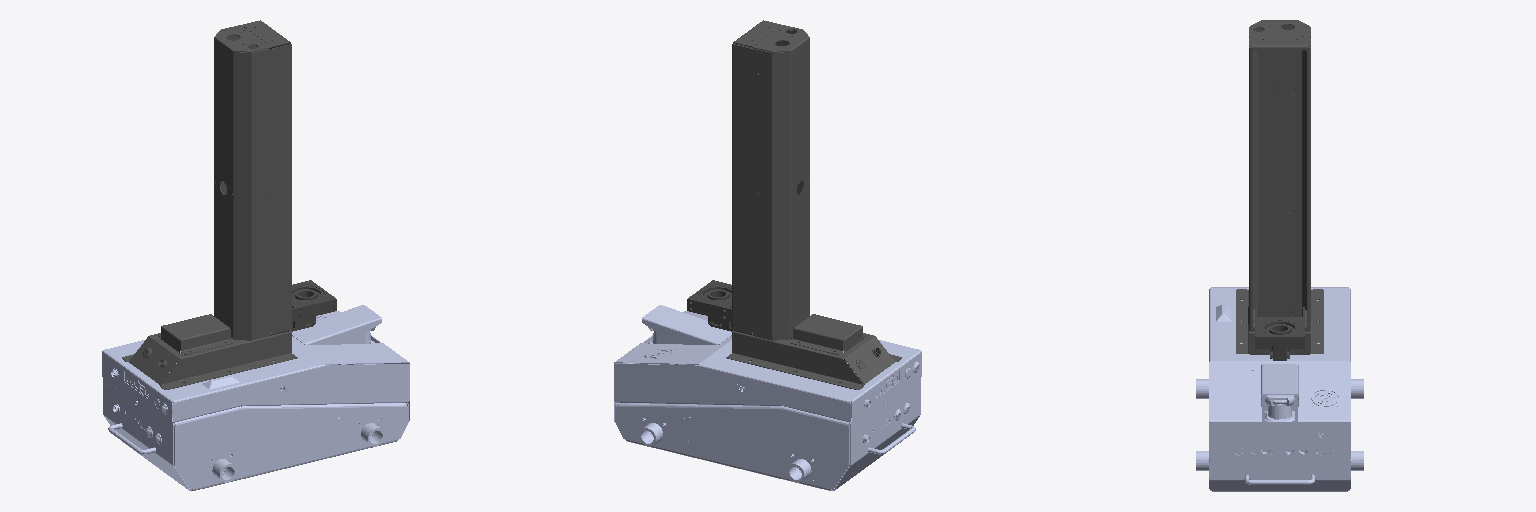
robot.urdf — komodo_torso:
<?xml version="1.0"?>
<robot name="komodo_torso" description="Komodo Torso" xmlns:xacro="http://www.ros.org/wiki/xacro">

      <link name="base_footprint"/>
  
 <joint name="base_footprint_joint" type="fixed">
    <parent link="base_footprint"/>
    <child link="base_link"/>
    <origin xyz="0.00 0.00 0.1275" rpy="0.0 0.0 0.0"/>
  </joint> 

  <link
    name="base_link">
    <inertial>
      <origin
        xyz="0.0030152 0.00057861 0.0749"
        rpy="0 0 0" />
      <mass
        value="6.0" /> <!--20.0058-->
      <inertia
        ixx="0.025582"
        ixy="0.0010034"
        ixz="-0.0041152"
        iyy="0.086418"
        iyz="-3.8058E-05"
        izz="0.091994" />
    </inertial>
    <visual>
      <origin
        xyz="0 0 0"
        rpy="0 0 0" />
      <geometry>
        <mesh
          filename="package://robotican_komodo/description/meshes/base_link.STL" />
      </geometry>
      <material
        name="">
        <color
          rgba="0.79216 0.81961 0.93333 1" />
      </material>
    </visual>
    <collision>
      <origin
        xyz="0 0 0"
        rpy="0 0 0" />
      <geometry>
        <mesh
          filename="package://robotican_komodo/description/meshes/base_link.STL" />
      </geometry>
    </collision>
  </link>


  <link name="arm_base_link">
    <inertial>
      <origin xyz="0.0787832367713514 1.63894955207658E-05 0.30372182598738" rpy="0 0 0" />
      <mass value="5.82785061945851" />
      <inertia
        ixx="0.262040399352781"
        ixy="-1.20613586206922E-05"
        ixz="0.0219696026578"
        iyy="0.271705564666912"
        iyz="3.10612186063073E-05"
        izz="0.0337682852586326" />
    </inertial>
    <visual>
      <origin xyz="0 0 0" rpy="0 0 0" />
      <geometry>
        <mesh filename="package://robotican_komodo/description/meshes/arm_base_link.STL" />
      </geometry>
      <material name="">
        <color rgba="0.4 0.4 0.4 1" />
      </material>
    </visual>
  <collision>
      <origin xyz="0 0 0" rpy="0 0 0" />
      <geometry>
        <mesh filename="package://robotican_komodo/description/meshes/arm_base_link.STL" />
      </geometry>
    </collision> 
  </link>

  <joint name="arm_base_joint" type="fixed">
    <origin xyz="-0.112249972183238 0 0.167160698455407" rpy="0 0 0" />
    <parent link="base_link" />
    <child link="arm_base_link" />
    <axis xyz="0 0 0" />  
  </joint>
  
   <link
    name="torso_link">
    <inertial>
      <origin
        xyz="0.0954671716579415 1.91586249009607E-06 -0.0185743175743276"
        rpy="0 0 0" />
      <mass
        value="1.09057945344451" />
      <inertia
        ixx="0.000835857275985966"
        ixy="5.81870910353681E-08"
        ixz="-3.13493979506258E-05"
        iyy="0.00128840659932805"
        iyz="1.45397132642805E-07"
        izz="0.00136461371089342" />
    </inertial>
    <visual>
      <origin
        xyz="0 0 0"
        rpy="0 0 0" />
      <geometry>
        <mesh
          filename="package://robotican_komodo/description/meshes/torso_link.STL" />
      </geometry>
      <material
        name="">
        <color
          rgba="0.35 0.35 0.35 1" />
      </material>
    </visual>
    <collision>
      <origin
        xyz="0 0 0"
        rpy="0 0 0" />
      <geometry>
        <mesh
          filename="package://robotican_komodo/description/meshes/torso_link.STL" />
      </geometry>
    </collision> 
  </link>
  <joint
    name="torso_joint"
    type="prismatic"> <!--prismatic-->
    <origin
      xyz="0.101457996026178 0 0.0740000000000002"
      rpy="0 0 0" />
    <parent
      link="arm_base_link" />
    <child
      link="torso_link" />
    <axis
      xyz="0 0 1" />
   <limit
	lower="0"
	upper="0.45"
	effort="70"
	velocity="0.012" />
  </joint>

  <joint
    name="base_rotation_joint"
    type="revolute">
    <origin
      xyz="0.113 0 -0.00400000000000003"
      rpy="0 0 0" />
    <parent
      link="torso_link" />
    <child
      link="base_rotation_link" />
    <axis
      xyz="0 0 1" />
    <limit
      lower="-3.14"
      upper="3.14"
      effort="10"
      velocity="1.0" />
  </joint>
  <link name="base_rotation_link">
    <inertial>
      <origin 
        rpy="0 0 0" 
        xyz="-6.93889390390723E-17 1.46538271444029E-17 0.0623331826247039"/>
      <mass 
        value="1.4054258533062"/>
      <inertia 
        ixx="0.00159425912810341" 
        ixy="-8.40269196653518E-08" 
        ixz="-1.60925604895535E-19" 
        iyy="0.000605522001732049" 
        iyz="-6.08768470792684E-19" 
        izz="0.00123388334665811"/>
    </inertial>
    <visual>
      <origin rpy="0 0 0" xyz="0 0 0"/>
      <geometry>
        <mesh filename="package://robotican_arm/meshes/base_rotation_link.STL"/>
      </geometry>
      <material name="">
        <color rgba="0.3 0.3 0.3 1"/>
      </material>
    </visual>
    <collision>
      <origin rpy="0 0 0" xyz="0 0 0"/>
      <geometry>
        <mesh filename="package://robotican_arm/meshes/base_rotation_link.STL"/>
      </geometry>
    </collision> 
  </link>

  <link name="shoulder_link">
    <inertial>
      <origin rpy="0 0 0" xyz="4.66247777455853E-06 -9.82289263772941E-05 0.0772888499398813"/>
      <mass value="0.191480823048406"/>
      <inertia ixx="0.00107301595696304" ixy="-2.9789063890745E-07" ixz="-2.01216953964121E-08" iyy="0.000975953125213584" iyz="-1.19601921452086E-06" izz="0.000217659789393094"/>
    </inertial>
    <visual>
      <origin rpy="0 0 0" xyz="0 0 0"/>
      <geometry>
        <mesh filename="package://robotican_arm/meshes/shoulder_link.STL"/>
      </geometry>
      <material name="">
        <color rgba="0.4 0.4 0.4 1"/>
      </material>
    </visual>
    <collision>
      <origin rpy="0 0 0" xyz="0 0 0"/>
      <geometry>
        <mesh filename="package://robotican_arm/meshes/shoulder_link.STL"/>
      </geometry>
    </collision> 
  </link>
  <joint name="shoulder_joint" type="revolute">
    <origin rpy="-4.20159904047482E-15 -5.97509793174248E-16 9.93431320775303E-15" xyz="0 0 0.0835"/>
    <parent link="base_rotation_link"/>
    <child link="shoulder_link"/>
    <axis xyz="0 1 0"/>
    <limit effort="2000" lower="-9.9E-07" upper="1.57" velocity="1.0"/>
  </joint>
  <link name="elbow1_link">
    <inertial>
      <origin rpy="0 0 0" xyz="3.38829306132937E-05 2.66620552362602E-06 0.0239321015118659"/>
      <mass value="0.759959116000226"/>
      <inertia ixx="0.0011156254663426" ixy="3.16193221175592E-07" ixz="2.89169705133133E-06" iyy="0.00114606034071406" iyz="-8.11914906919631E-08" izz="0.000237163435713384"/>
    </inertial>
    <visual>
      <origin rpy="0 0 0" xyz="0 0 0"/>
      <geometry>
        <mesh filename="package://robotican_arm/meshes/elbow1_link.STL"/>
        <!-- Simplified -->
      </geometry>
      <material name="">
        <color rgba="0.3 0.3 0.3 1"/>
      </material>
    </visual>
    <collision>
      <origin rpy="0 0 0" xyz="0 0 0"/>
      <geometry>
        <mesh filename="package://robotican_arm/meshes/elbow1_link.STL"/>
      </geometry>
    </collision> 
  </link>
  <joint name="elbow1_joint" type="revolute">
    <origin rpy="1.44504380352115E-15 1.11628850952447E-06 -9.93431159466724E-15" xyz="0 -0.000251155668931501 0.266305434894181"/>
    <parent link="shoulder_link"/>
    <child link="elbow1_link"/>
    <axis xyz="-0.999999999998754 0 0"/>
    <limit effort="100" lower="-3.14" upper="3.14" velocity="1.0"/>
  </joint>
  <link name="elbow2_link">
    <inertial>
      <origin rpy="0 0 0" xyz="0.000512284668490459 -2.29084833272284E-05 0.0885118785637893"/>
      <mass value="1.12138857800426"/>
      <inertia ixx="0.0011156254663426" ixy="3.04261287700186E-07" ixz="-1.22468079415109E-06" iyy="0.0110437302875007" iyz="-7.91547787630536E-05" izz="0.000331598270284794"/>
    </inertial>
    <visual>
      <origin rpy="0 0 0" xyz="0 0 0"/>
      <geometry>
        <mesh filename="package://robotican_arm/meshes/elbow2_link.STL"/>
        <!-- Simplified -->
      </geometry>
      <material name="">
        <color rgba="0.4 0.4 0.4 1"/>
      </material>
    </visual>
    <collision>
      <origin rpy="0 0 0" xyz="0 0 0"/>
      <geometry>
        <mesh filename="package://robotican_arm/meshes/elbow2_link.STL"/>
      </geometry>
    </collision> 
  </link>
  <joint name="elbow2_joint" type="revolute">
    <origin rpy="-4.51048856041191E-16 3.35869632765754E-16 0" xyz="0 0 0.22399999999847"/>
    <parent link="elbow1_link"/>
    <child link="elbow2_link"/>
    <axis xyz="0 1 0"/>
    <limit effort="10" lower="-3.14" upper="3.14" velocity="1.0"/>
  </joint>
  <link name="wrist_link">
    <inertial>
      <origin rpy="0 0 0" xyz="0.0303673809619356 4.00707611352118E-10 0.000140374211043737"/>
      <mass value="0.717337417215465"/>
      <inertia ixx="0.000486392340366094" ixy="4.20757000035677E-12" ixz="-3.91843889020299E-06" iyy="0.000211170064630335" iyz="2.79335159568522E-12" izz="0.000437528795624211"/>
    </inertial>
    <visual>
      <origin rpy="0 0 0" xyz="0 0 0"/>
      <geometry>
        <mesh filename="package://robotican_arm/meshes/wrist_link.STL"/>
        <!-- Simplified -->
      </geometry>
      <material name="">
        <color rgba="0.4 0.4 0.4 1"/>
      </material>
    </visual>
    <collision>
      <origin rpy="0 0 0" xyz="0 0 0"/>
      <geometry>
        <mesh filename="package://robotican_arm/meshes/wrist_link.STL"/>
      </geometry>
    </collision> 
  </link>
  <joint name="wrist_joint" type="revolute">
    <origin rpy="0 0 0" xyz="0.0131002732116043 0 0.244749985376465"/>
    <parent link="elbow2_link"/>
    <child link="wrist_link"/>
    <axis xyz="0 0 0.999999999998754"/>
    <limit effort="10" lower="-3.14" upper="3.14" velocity="1.0"/>
  </joint>
  
  <link name="gripper_link"/>

  <joint name="gripper_joint" type="fixed">
  <origin xyz="0 0 0.06" rpy="0 -1.570796327 0"/>
  <parent link="wrist_link"/>
  <child link="gripper_link"/>
  </joint>
  
  <link name="left_finger_link">
    <inertial>
      <origin rpy="0 0 0" xyz="-6.10622663543836E-16 0.0205697573116852 0.0301832532936965"/>
      <mass value="0.0111981711598485"/>
      <inertia ixx="0.000486392340366094" ixy="4.20757000035677E-12" ixz="-3.91843889020299E-06" iyy="0.000211170064630335" iyz="2.79335159568522E-12" izz="0.000437528795624211"/>
    </inertial>
    <visual>
      <origin rpy="0 0 0" xyz="0 0 0"/>
      <geometry>
        <mesh filename="package://robotican_arm/meshes/left_finger_link.STL"/>
        <!-- Simplified -->
      </geometry>
      <material name="">
        <color rgba="0.4 0.4 0.4 1"/>
      </material>
    </visual>
    <collision>
      <origin rpy="0 0 0" xyz="0 0 0"/>
      <geometry>
        <mesh filename="package://robotican_arm/meshes/left_finger_link.STL"/>
      </geometry>
    </collision> 
  </link>
  <joint name="left_finger_joint" type="revolute">
    <origin rpy="0.205 0 0.0" xyz="-0.000250000000000111 0.021 0.0422500000000001"/>
    <parent link="wrist_link"/>
    <child link="left_finger_link"/>
    <axis xyz="1 0 0"/>
    <limit effort="3.1" lower="-1.57" upper="1.57" velocity="2.0"/>
  </joint>
  <link name="right_finger_link">
    <inertial>
      <origin rpy="0 0 0" xyz="2.77555756156289E-16 -0.0205697573116854 0.0301832532936965"/>
      <mass value="0.0111981711598485"/>
      <inertia ixx="0.000486392340366094" ixy="4.20757000035677E-12" ixz="-3.91843889020299E-06" iyy="0.000211170064630335" iyz="2.79335159568522E-12" izz="0.000437528795624211"/>
    </inertial>
    <visual>
      <origin rpy="0 0 0" xyz="0 0 0"/>
      <geometry>
        <mesh filename="package://robotican_arm/meshes/right_finger_link.STL"/>
        <!-- Simplified -->
      </geometry>
      <material name="">
        <color rgba="0.4 0.4 0.4 1"/>
      </material>
    </visual>
    <collision>
      <origin rpy="0 0 0" xyz="0 0 0"/>
      <geometry>
        <mesh filename="package://robotican_arm/meshes/right_finger_link.STL"/>
      </geometry>
    </collision> 
  </link>
  <joint name="right_finger_joint" type="revolute">
    <origin rpy="-0.205 0 0" xyz="-0.00024999999999889 -0.021 0.0422499999999999"/>
    <parent link="wrist_link"/>
    <child link="right_finger_link"/>
    <axis xyz="1 0 0"/>
    <limit effort="3.1" lower="-1.57" upper="1.57" velocity="2.0"/>
  </joint>


</robot>

--- Facts derived from the render (not from the file) ---
Views: 3 orthographic renders of the robot side by side, from view 1: azimuth 30°, elevation 25°; view 2: azimuth 150°, elevation 25°; view 3: azimuth 270°, elevation 25°.
Robot: komodo_torso — 12 links, 11 joints (7 revolute, 1 prismatic, 3 fixed); root link base_footprint; default pose: every joint at zero.
Links seen in each view (by area): view 1: base_link, arm_base_link, torso_link; view 2: base_link, arm_base_link, torso_link; view 3: base_link, arm_base_link, torso_link.
Boxes of the visible links, x1,y1,x2,y2 form: base_link: (102,305,409,490); arm_base_link: (122,20,297,389); torso_link: (291,280,336,331); base_link: (614,305,921,490); arm_base_link: (726,20,901,389); torso_link: (687,280,732,331); base_link: (1196,287,1363,491); arm_base_link: (1236,20,1323,354); torso_link: (1255,307,1304,360).
Size in the robot's own frame: 0.5913 by 0.327 by 0.8652 metres.
3 mesh visuals loaded from 10 distinct referenced files (3 binary STL); not drawn: 7 (reference not matched to a file when rendering).